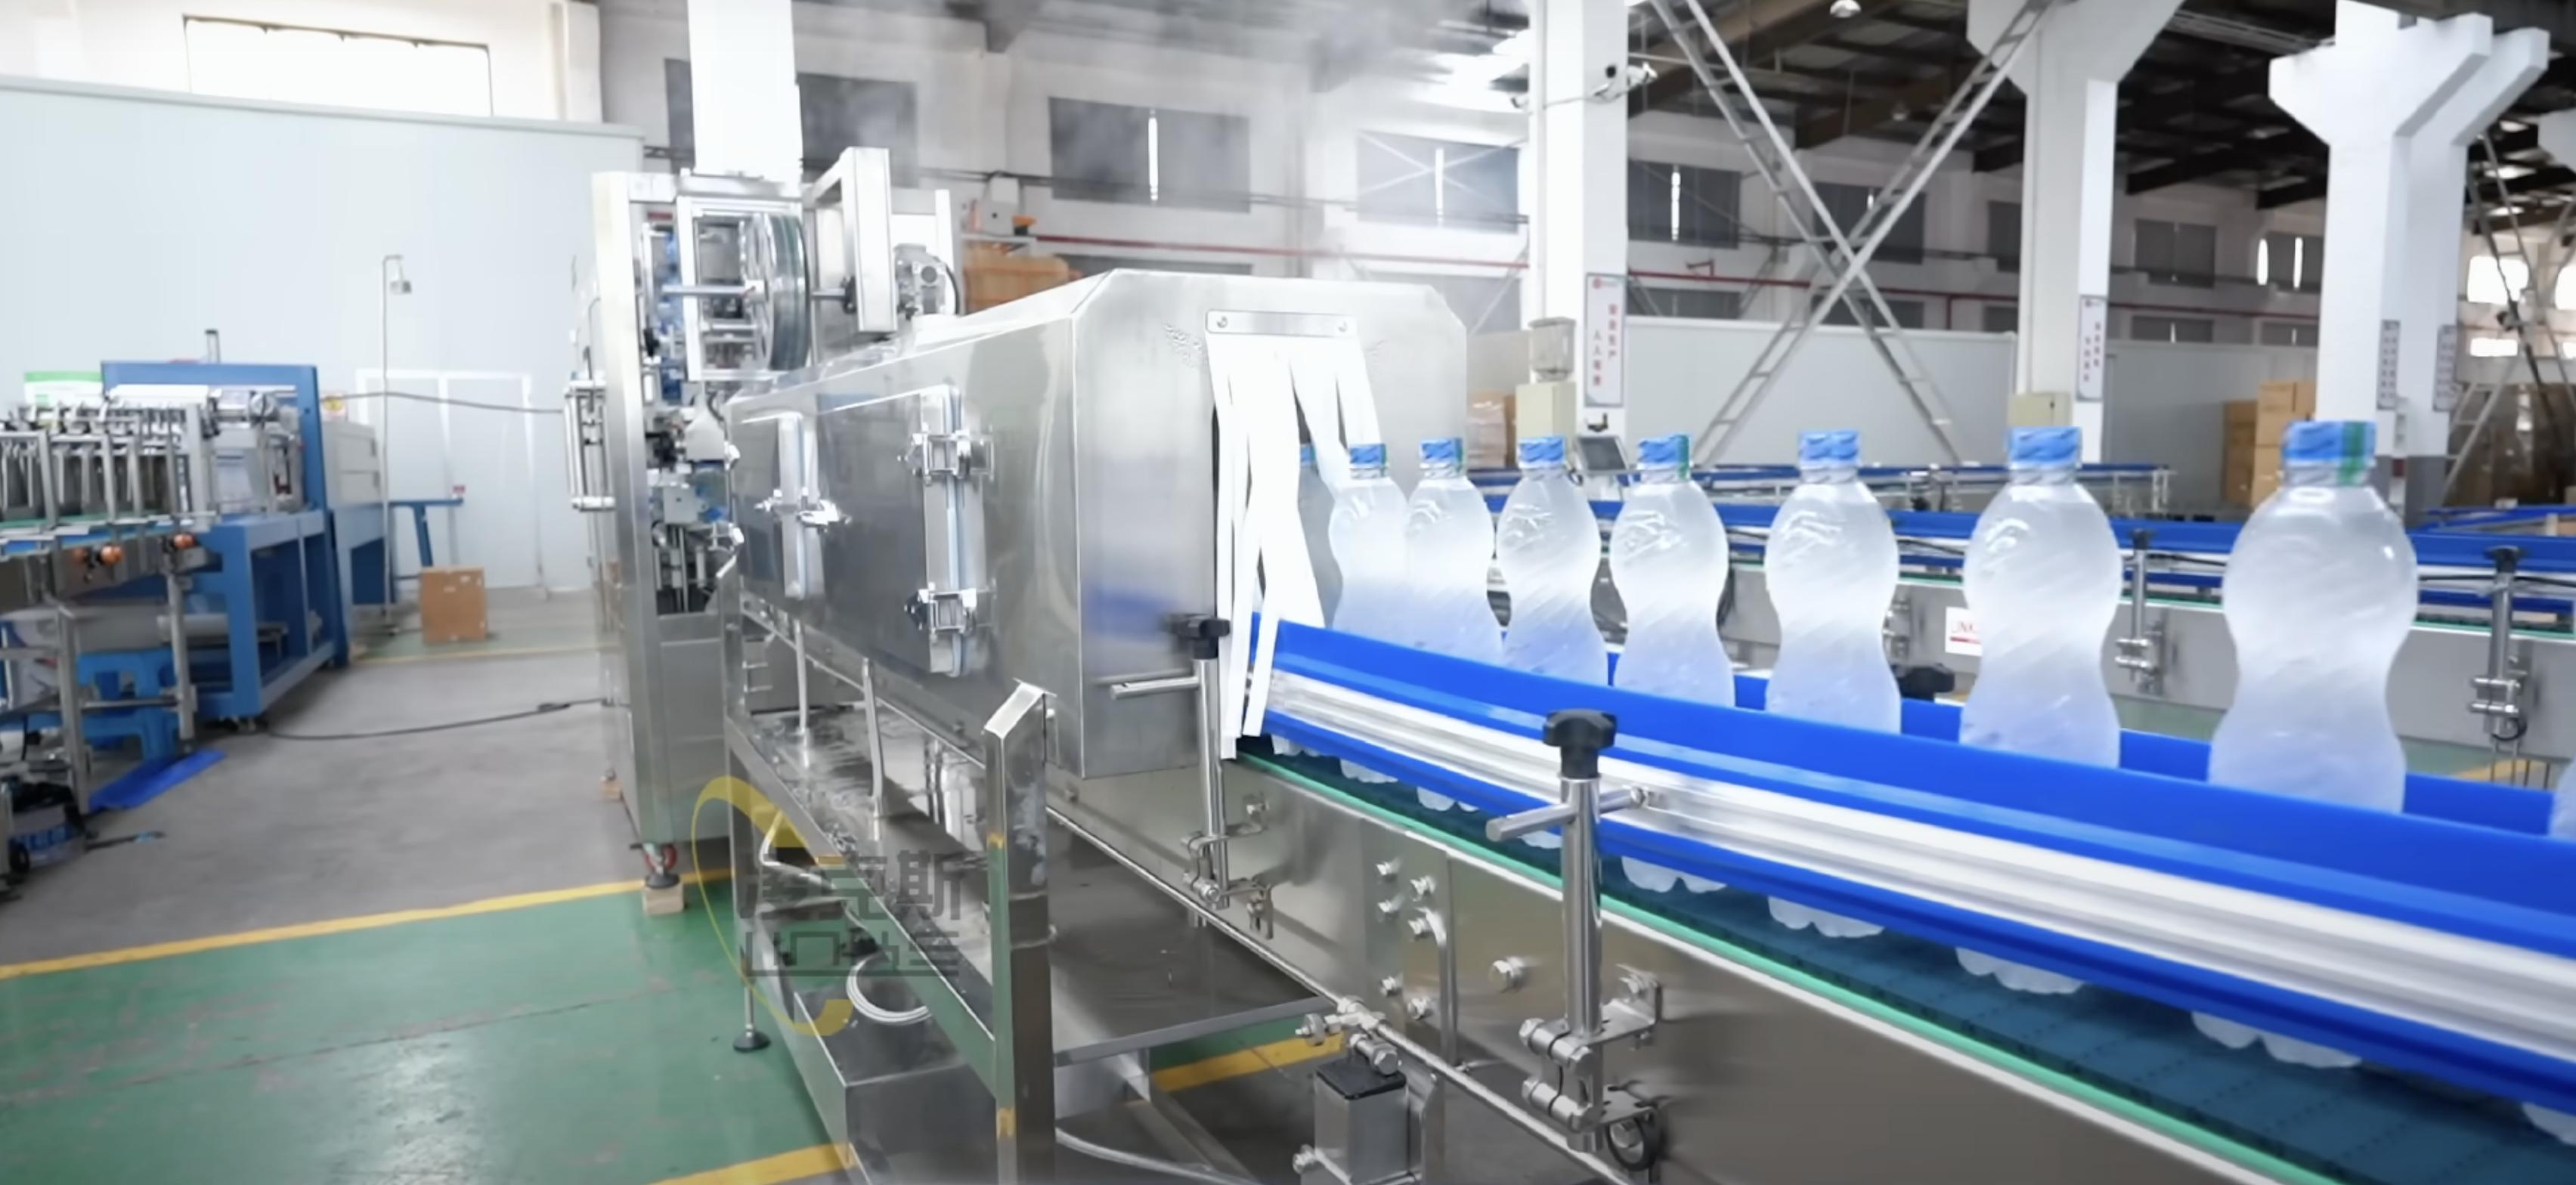bottle: (2206, 419, 2418, 812), (1958, 426, 2121, 766), (1763, 431, 1901, 733), (1608, 434, 1735, 705), (1497, 437, 1608, 684), (1403, 439, 1502, 662), (1327, 442, 1410, 643)
